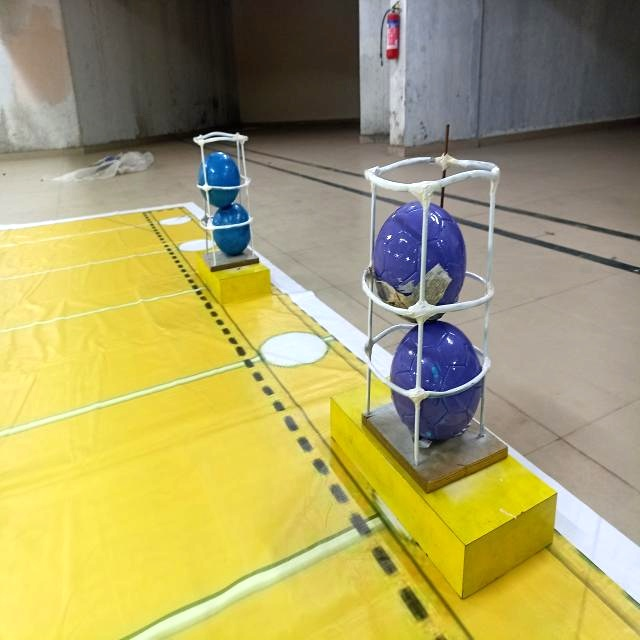blue_ball: (197, 150, 243, 207), (207, 204, 256, 257)
purple_ball: (358, 183, 468, 306), (389, 314, 486, 437)
silo: (366, 149, 508, 465), (194, 124, 256, 270)
